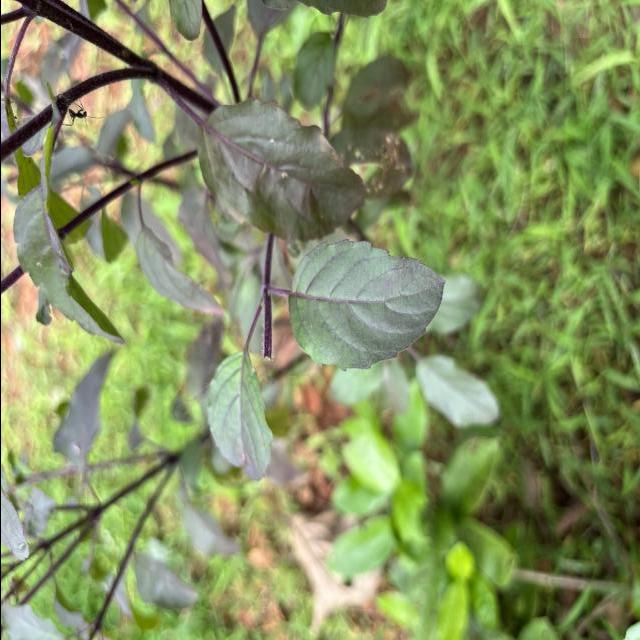Ocimum tenuiflorum: (281, 234, 450, 378)
